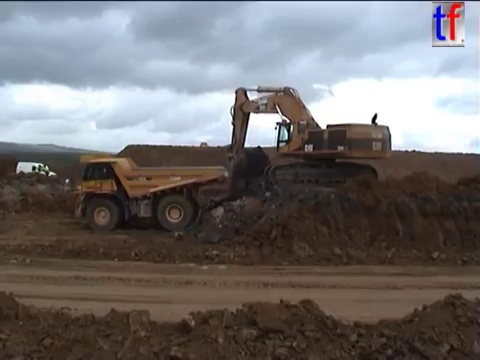excavator: (224, 84, 394, 195)
truck: (62, 151, 228, 233)
worker: (41, 160, 51, 182), (36, 162, 43, 180)
